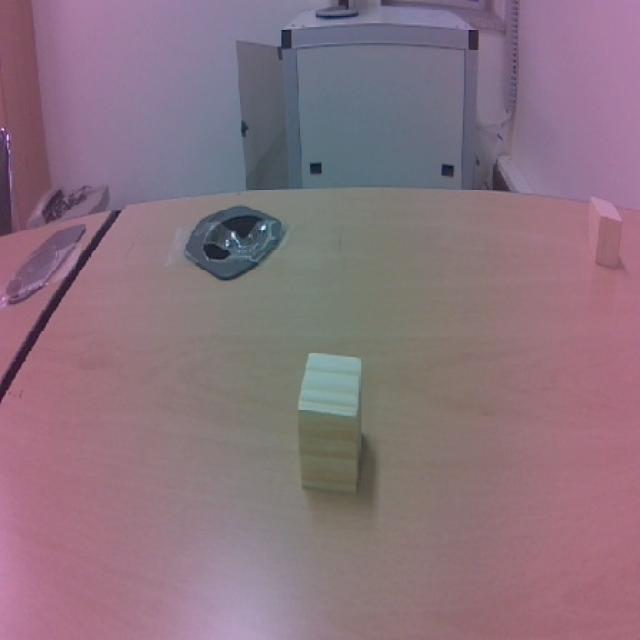obstacle: (283, 343, 386, 505)
